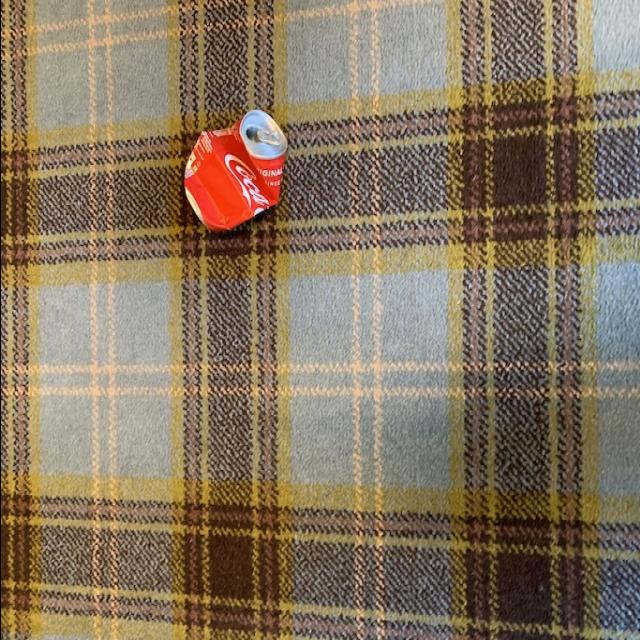litter: (180, 113, 288, 235)
